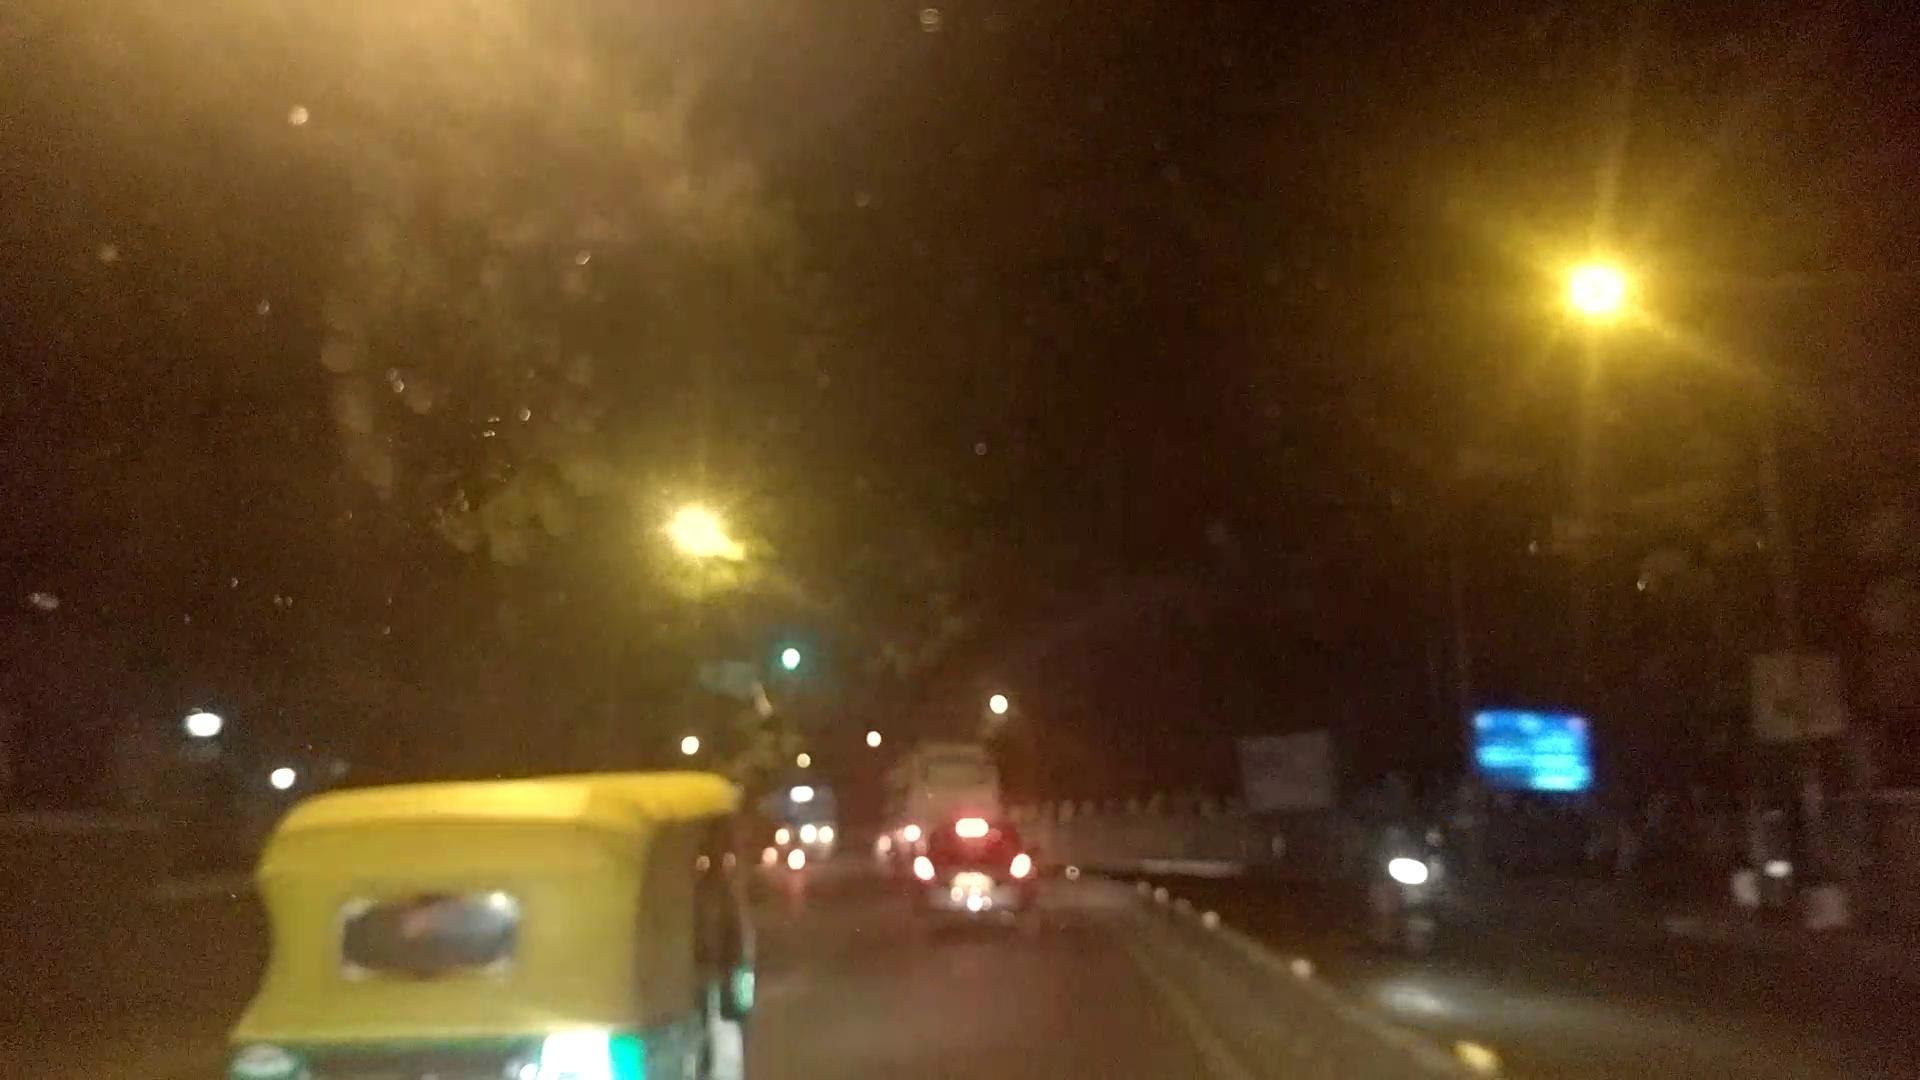on: (1451, 142, 1742, 491), (589, 402, 862, 715)
